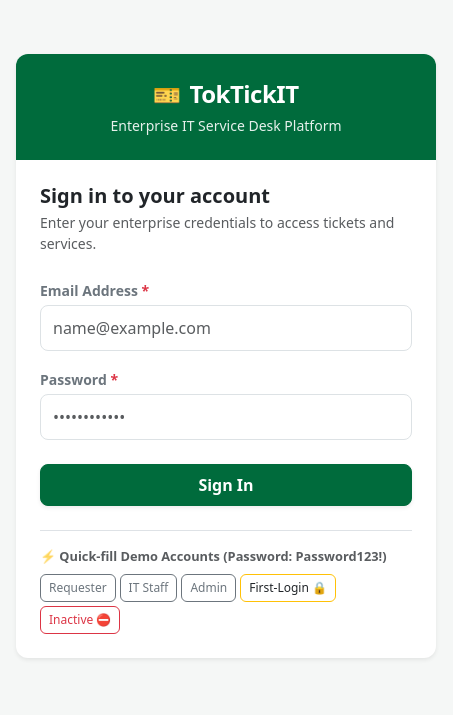
Lab 3 LoginScreen Component (UI-01, BR-01, AC-01, AC-02) › displays safe error banner when account is inactive (BR-01, AC-02)
Type "metier.l@example.com" into the field with placeholder "name@example.com" at (226, 328), box x1=40 y1=305 x2=412 y2=351
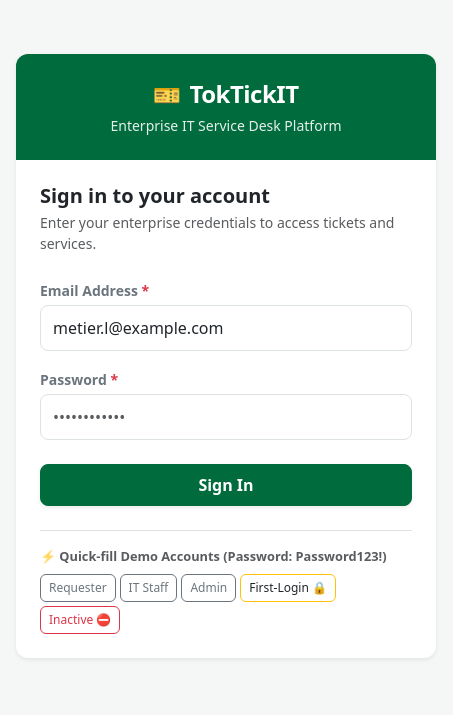
Type "Password123!" into the password field with placeholder "••••••••••••" at (226, 417), box x1=40 y1=394 x2=412 y2=440
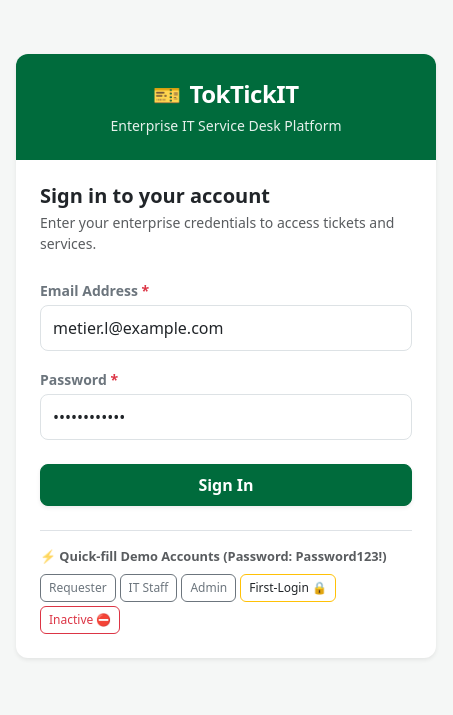
Click the button "Sign In" at (226, 485), box x1=40 y1=464 x2=412 y2=506
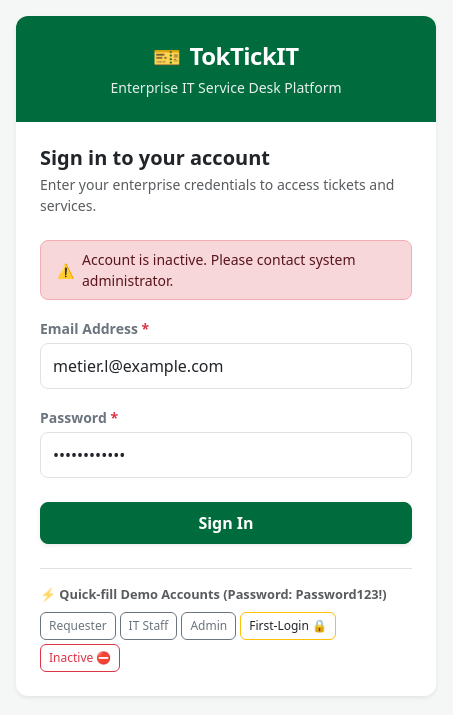
Expected: the text "Account is inactive. Please contact system administrator." is shown, x1=82 y1=249 x2=395 y2=291
